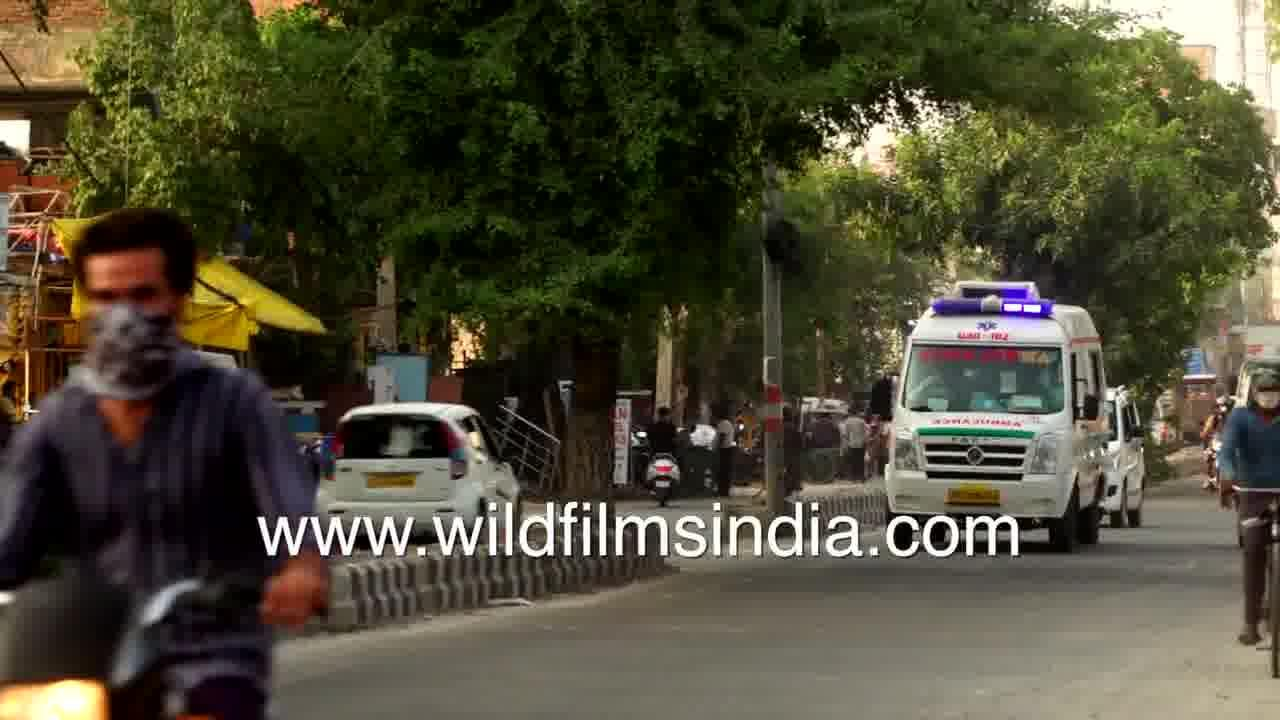AMBULANCE: (875, 283, 1117, 530)
